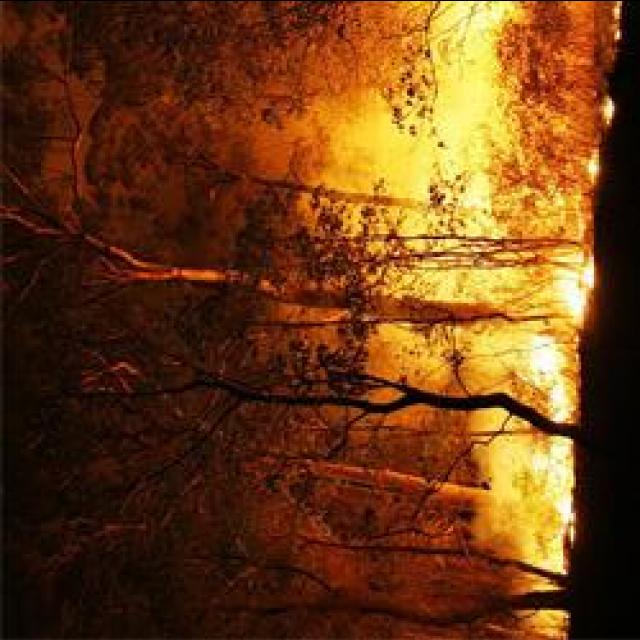fire: (526, 332, 580, 419), (552, 248, 602, 326), (536, 444, 579, 530)
